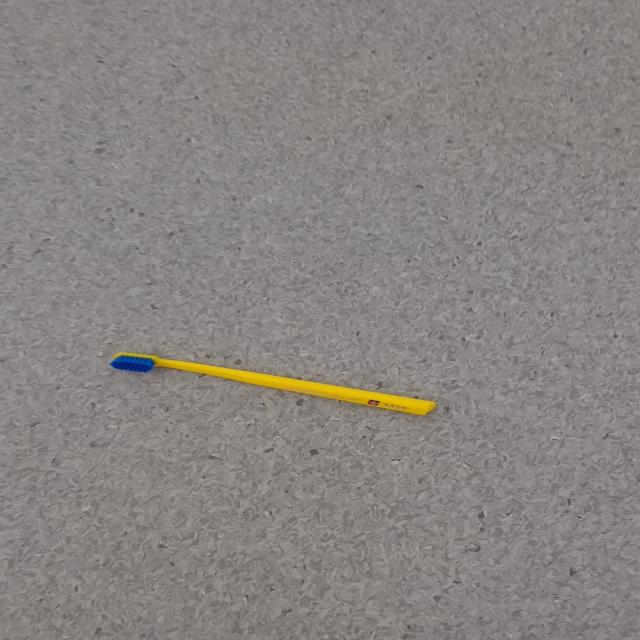toothbrush: (108, 352, 437, 416)
